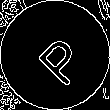P_NW: (24, 24, 86, 86)
